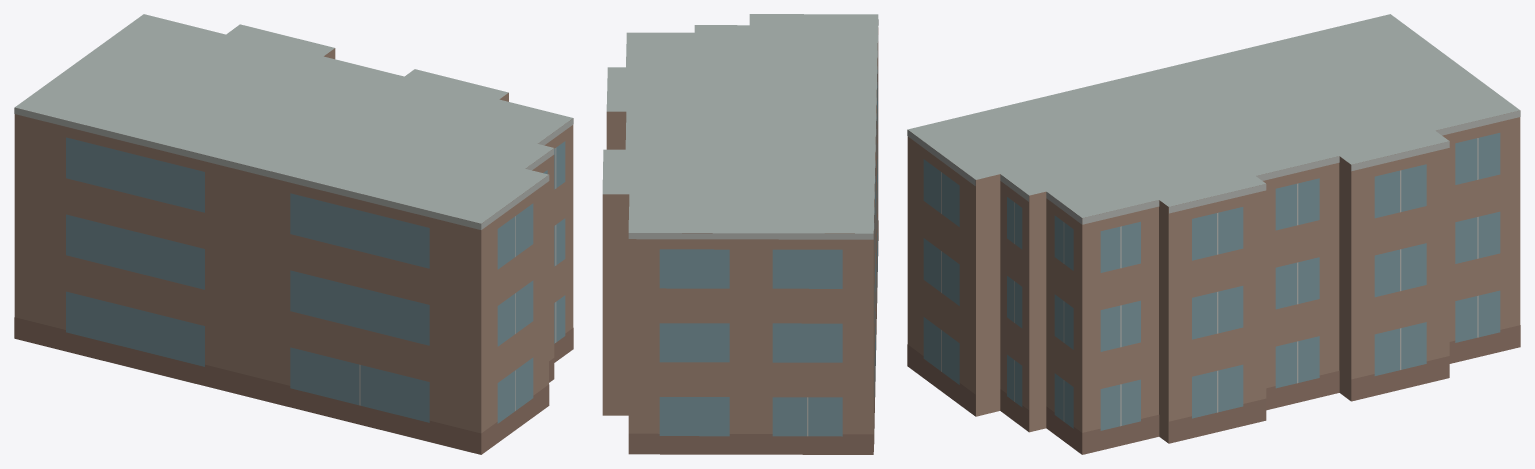
Rendered from survey-upis-32912349.glb.
3 views of the same model, side by side, from view 1: azimuth 30°, elevation 25°; view 2: azimuth 150°, elevation 25°; view 3: azimuth 270°, elevation 25° (orthographic). The views are drawn at different scales.
Parts seen in each view (by area): view 1: survey-upis-32912349.tmp; view 2: survey-upis-32912349.tmp; view 3: survey-upis-32912349.tmp.
Part boxes in pixels (x1=…): survey-upis-32912349.tmp: x1=14, y1=14, x2=573, y2=454; survey-upis-32912349.tmp: x1=602, y1=14, x2=878, y2=454; survey-upis-32912349.tmp: x1=907, y1=14, x2=1520, y2=454.
Size of the model in its own units: 16.09 by 8.7 by 20.42.
